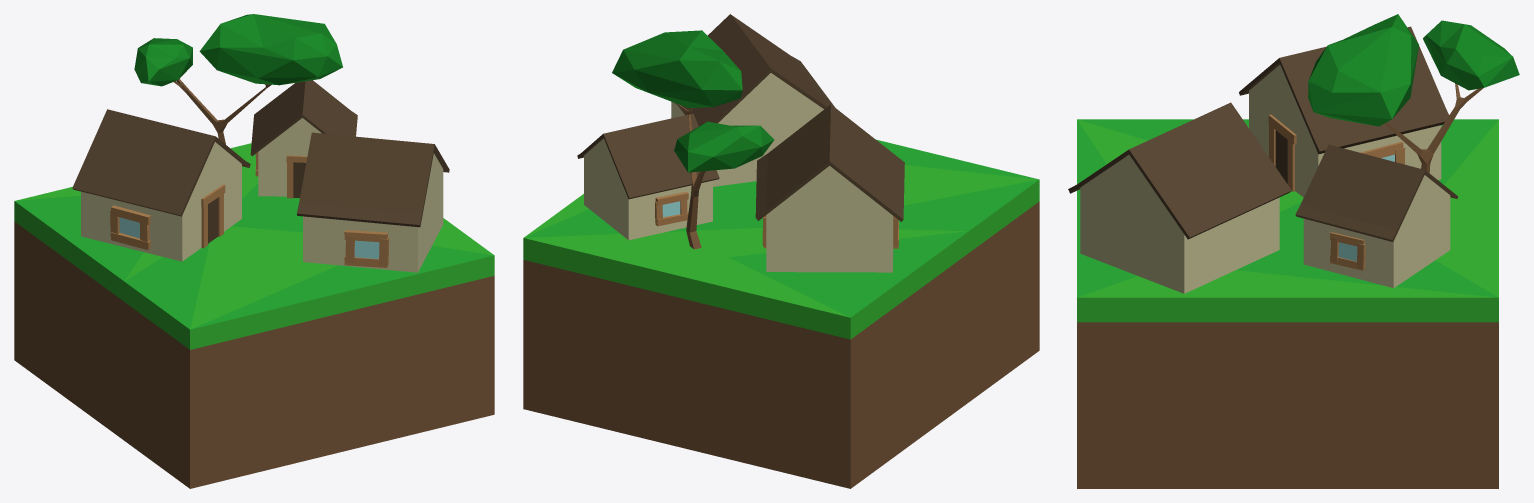
The model's file is IsoVillage.fbx.
3 views of the same model, side by side, from view 1: azimuth 30°, elevation 25°; view 2: azimuth 150°, elevation 25°; view 3: azimuth 270°, elevation 25° (orthographic). The views are drawn at different scales.
Visible parts, largest first — view 1: Cube, Cube.001, Cube.045, Icosphere, Cube.030, Icosphere.001, Cube.046; view 2: Cube, Cube.001, Cube.030, Cube.045, Icosphere, Icosphere.001, Cube.046; view 3: Cube, Cube.045, Cube.030, Cube.001, Icosphere, Icosphere.001, Cube.046, Cube.015.
Boxes of the visible parts, box(x1,y1,x2,y2) form: Cube: box(14, 143, 494, 488); Cube.001: box(72, 109, 250, 261); Cube.045: box(297, 132, 449, 272); Icosphere: box(199, 14, 342, 85); Cube.030: box(250, 80, 357, 196); Icosphere.001: box(134, 38, 192, 86); Cube.046: box(174, 79, 271, 144); Cube: box(523, 139, 1039, 488); Cube.001: box(755, 104, 904, 272); Cube.030: box(577, 113, 719, 240); Cube.045: box(671, 14, 835, 186); Icosphere: box(612, 30, 742, 108); Icosphere.001: box(674, 121, 774, 172); Cube.046: box(675, 103, 705, 249); Cube: box(1077, 119, 1498, 488); Cube.045: box(1068, 102, 1291, 293); Cube.030: box(1295, 144, 1458, 288); Cube.001: box(1239, 26, 1448, 197); Icosphere: box(1308, 14, 1418, 126); Icosphere.001: box(1423, 20, 1519, 90); Cube.046: box(1384, 83, 1483, 172); Cube.015: box(1275, 130, 1287, 183).
Size of the model in its own units: 201 by 208 by 214.
